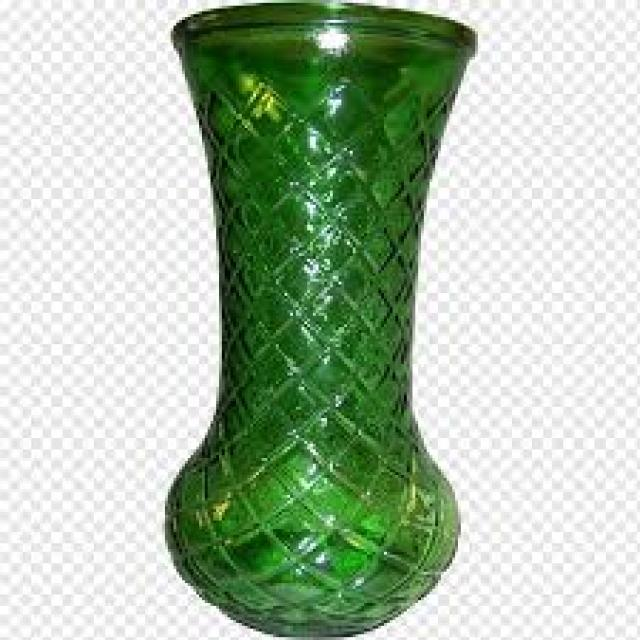glass: (162, 0, 478, 637)
